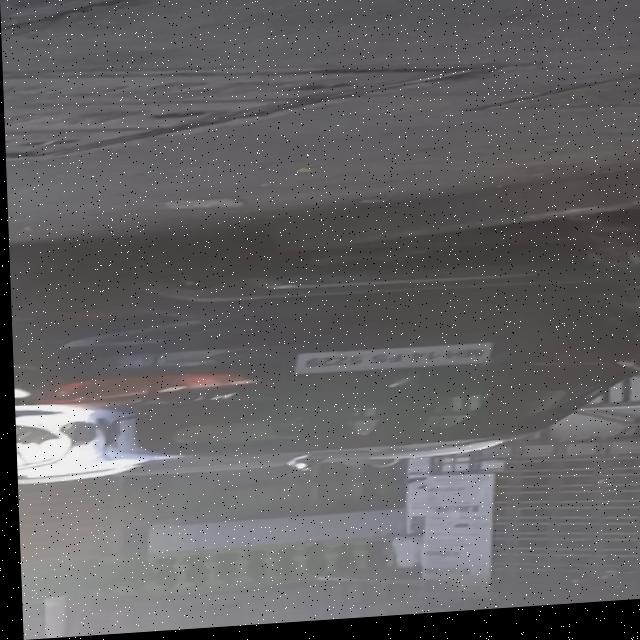plate: (288, 347, 497, 381)
